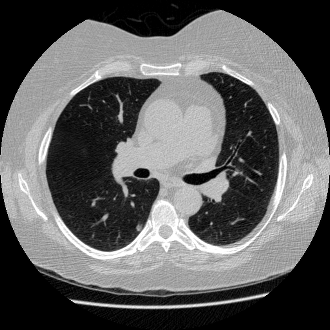nodule: (136, 225, 140, 229)
